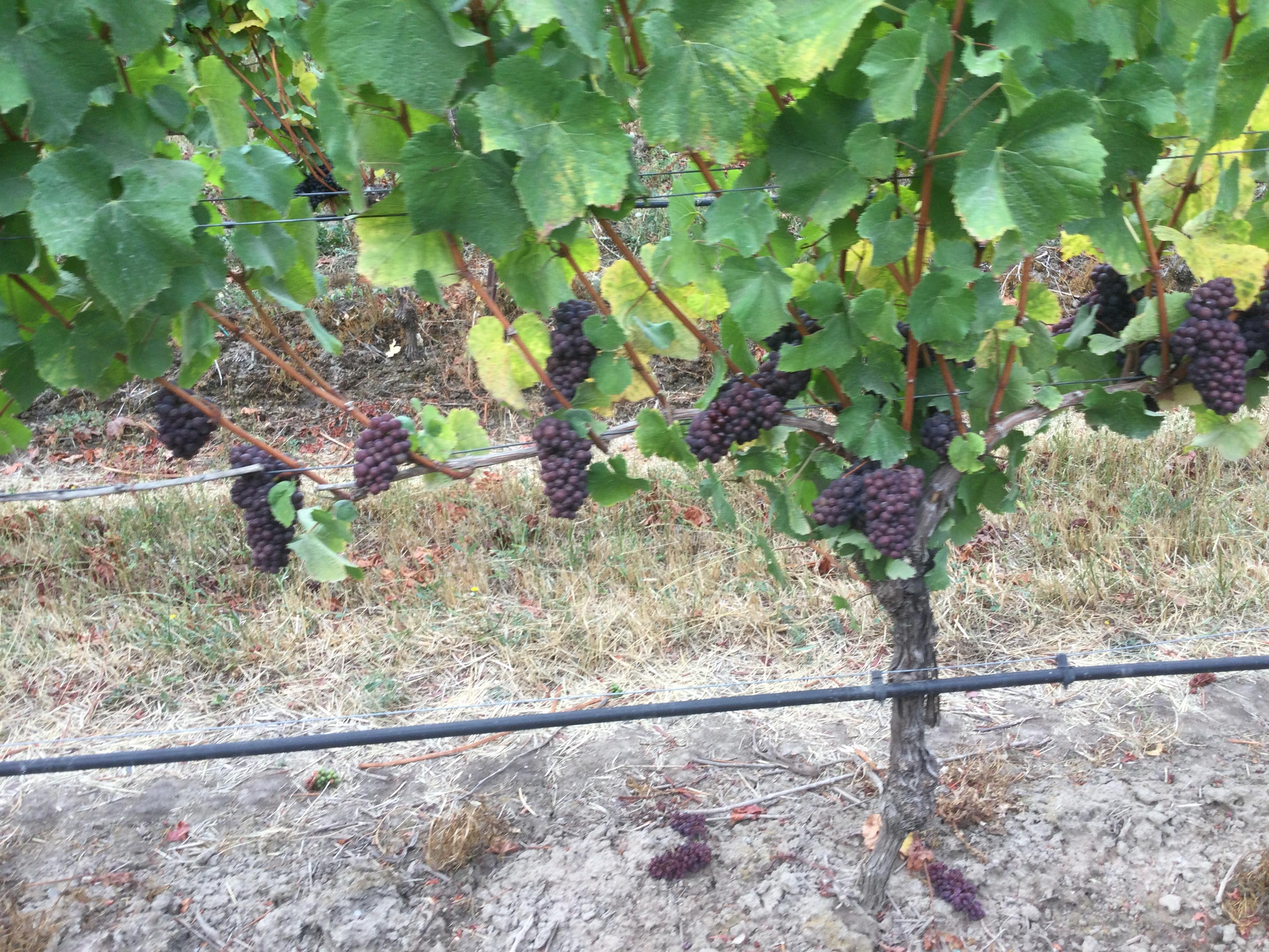leaf: (29, 149, 202, 314), (476, 56, 631, 236), (953, 89, 1105, 247), (639, 0, 780, 161), (320, 0, 474, 112), (400, 123, 528, 257), (0, 0, 116, 144), (767, 86, 867, 226), (355, 190, 456, 287), (601, 260, 698, 358), (1162, 229, 1268, 308), (778, 0, 880, 81), (30, 309, 127, 389), (71, 93, 166, 174), (315, 72, 365, 211), (1064, 192, 1146, 273), (468, 315, 537, 409), (859, 27, 926, 122), (495, 231, 572, 313), (505, 0, 608, 59), (1215, 25, 1268, 138), (720, 256, 792, 339), (1185, 12, 1228, 143), (220, 143, 302, 211), (972, 0, 1075, 53), (907, 270, 975, 343), (86, 0, 174, 56), (196, 56, 248, 149), (704, 191, 776, 257), (778, 315, 858, 371), (856, 193, 914, 266), (1083, 385, 1161, 438), (288, 530, 362, 581), (634, 408, 696, 467), (173, 308, 219, 387), (1192, 410, 1263, 461), (587, 455, 651, 506), (849, 288, 905, 346), (0, 141, 38, 217), (859, 413, 911, 467), (846, 122, 895, 177), (698, 462, 736, 528), (661, 284, 727, 322), (589, 351, 633, 394), (582, 314, 626, 350), (947, 432, 985, 472), (267, 480, 296, 526), (463, 114, 473, 122), (781, 272, 787, 280), (459, 110, 467, 115), (26, 256, 29, 262), (301, 510, 307, 513), (1260, 19, 1263, 24), (19, 268, 25, 269), (987, 279, 989, 282), (6, 242, 7, 242), (5, 236, 7, 236), (425, 229, 430, 229), (740, 259, 744, 259)
